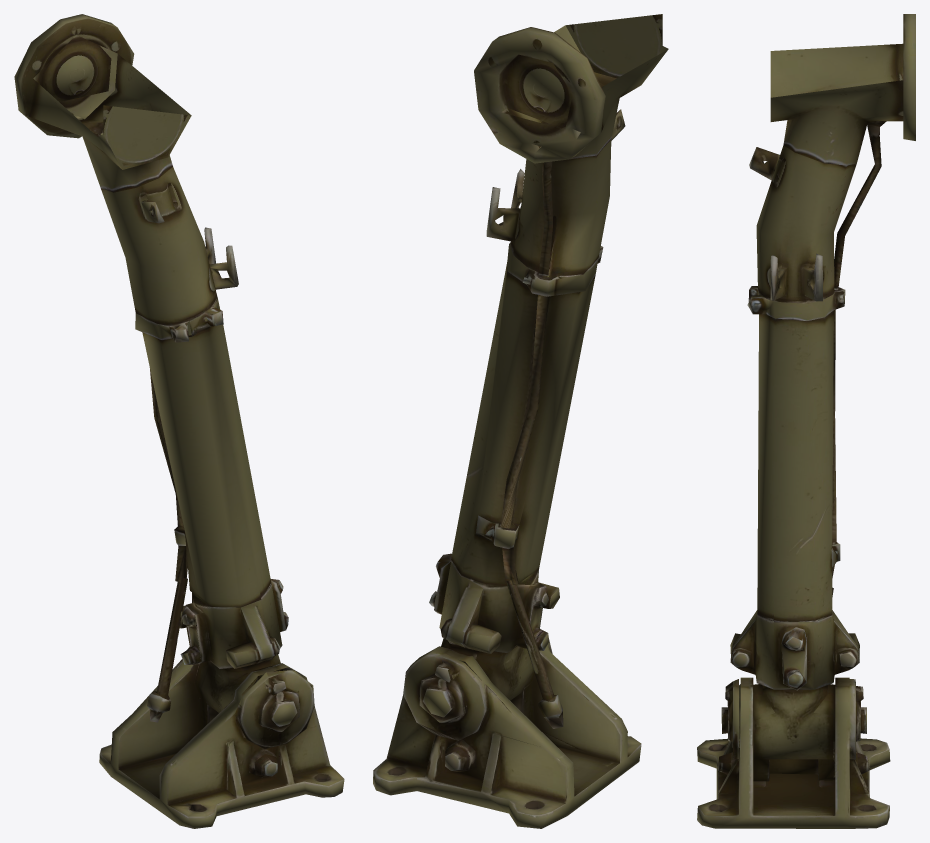
Rendered from column.glb.
3 views of the same model, side by side, from view 1: azimuth 30°, elevation 25°; view 2: azimuth 150°, elevation 25°; view 3: azimuth 270°, elevation 25° (orthographic). The views are drawn at different scales.
Visible parts, largest first — view 1: tripo_node_1b96e277-1b05-4195-9f62-72c4d; view 2: tripo_node_1b96e277-1b05-4195-9f62-72c4d; view 3: tripo_node_1b96e277-1b05-4195-9f62-72c4d.
Boxes of the visible parts, x1=… form: tripo_node_1b96e277-1b05-4195-9f62-72c4d: x1=14, y1=14, x2=344, y2=828; tripo_node_1b96e277-1b05-4195-9f62-72c4d: x1=373, y1=14, x2=668, y2=828; tripo_node_1b96e277-1b05-4195-9f62-72c4d: x1=697, y1=14, x2=915, y2=828.
Bounding box in the file's own units: 0.3204 × 0.9958 × 0.2714.
1 material, 1 textured.
